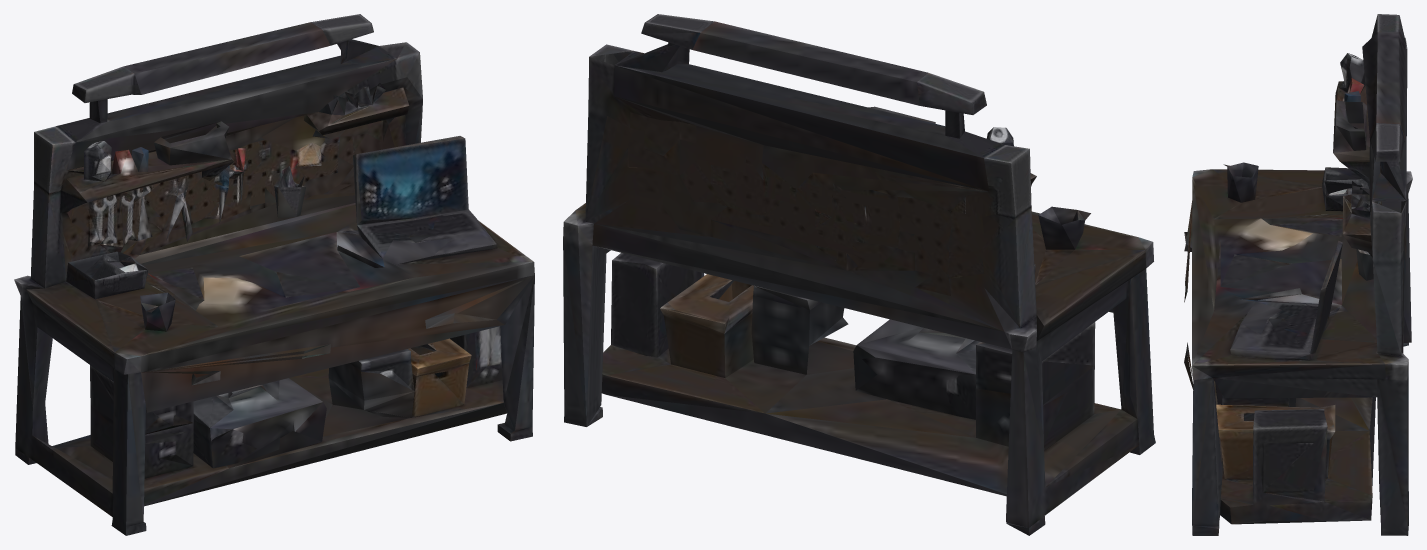
File: bancada_lab.glb
3 renders of one model, left to right at view 1: azimuth 30°, elevation 25°; view 2: azimuth 150°, elevation 25°; view 3: azimuth 270°, elevation 25°, orthographic. The views are drawn at different scales.
Visible parts, largest first — view 1: Mesh_0; view 2: Mesh_0; view 3: Mesh_0.
Boxes of the visible parts, left/top/right/bottom form: Mesh_0: left=14, top=14, right=534, bottom=535; Mesh_0: left=563, top=14, right=1155, bottom=535; Mesh_0: left=1184, top=14, right=1412, bottom=535.
Bounding box in the file's own units: 1.18 × 1 × 0.5774.
1 material, 1 textured.
